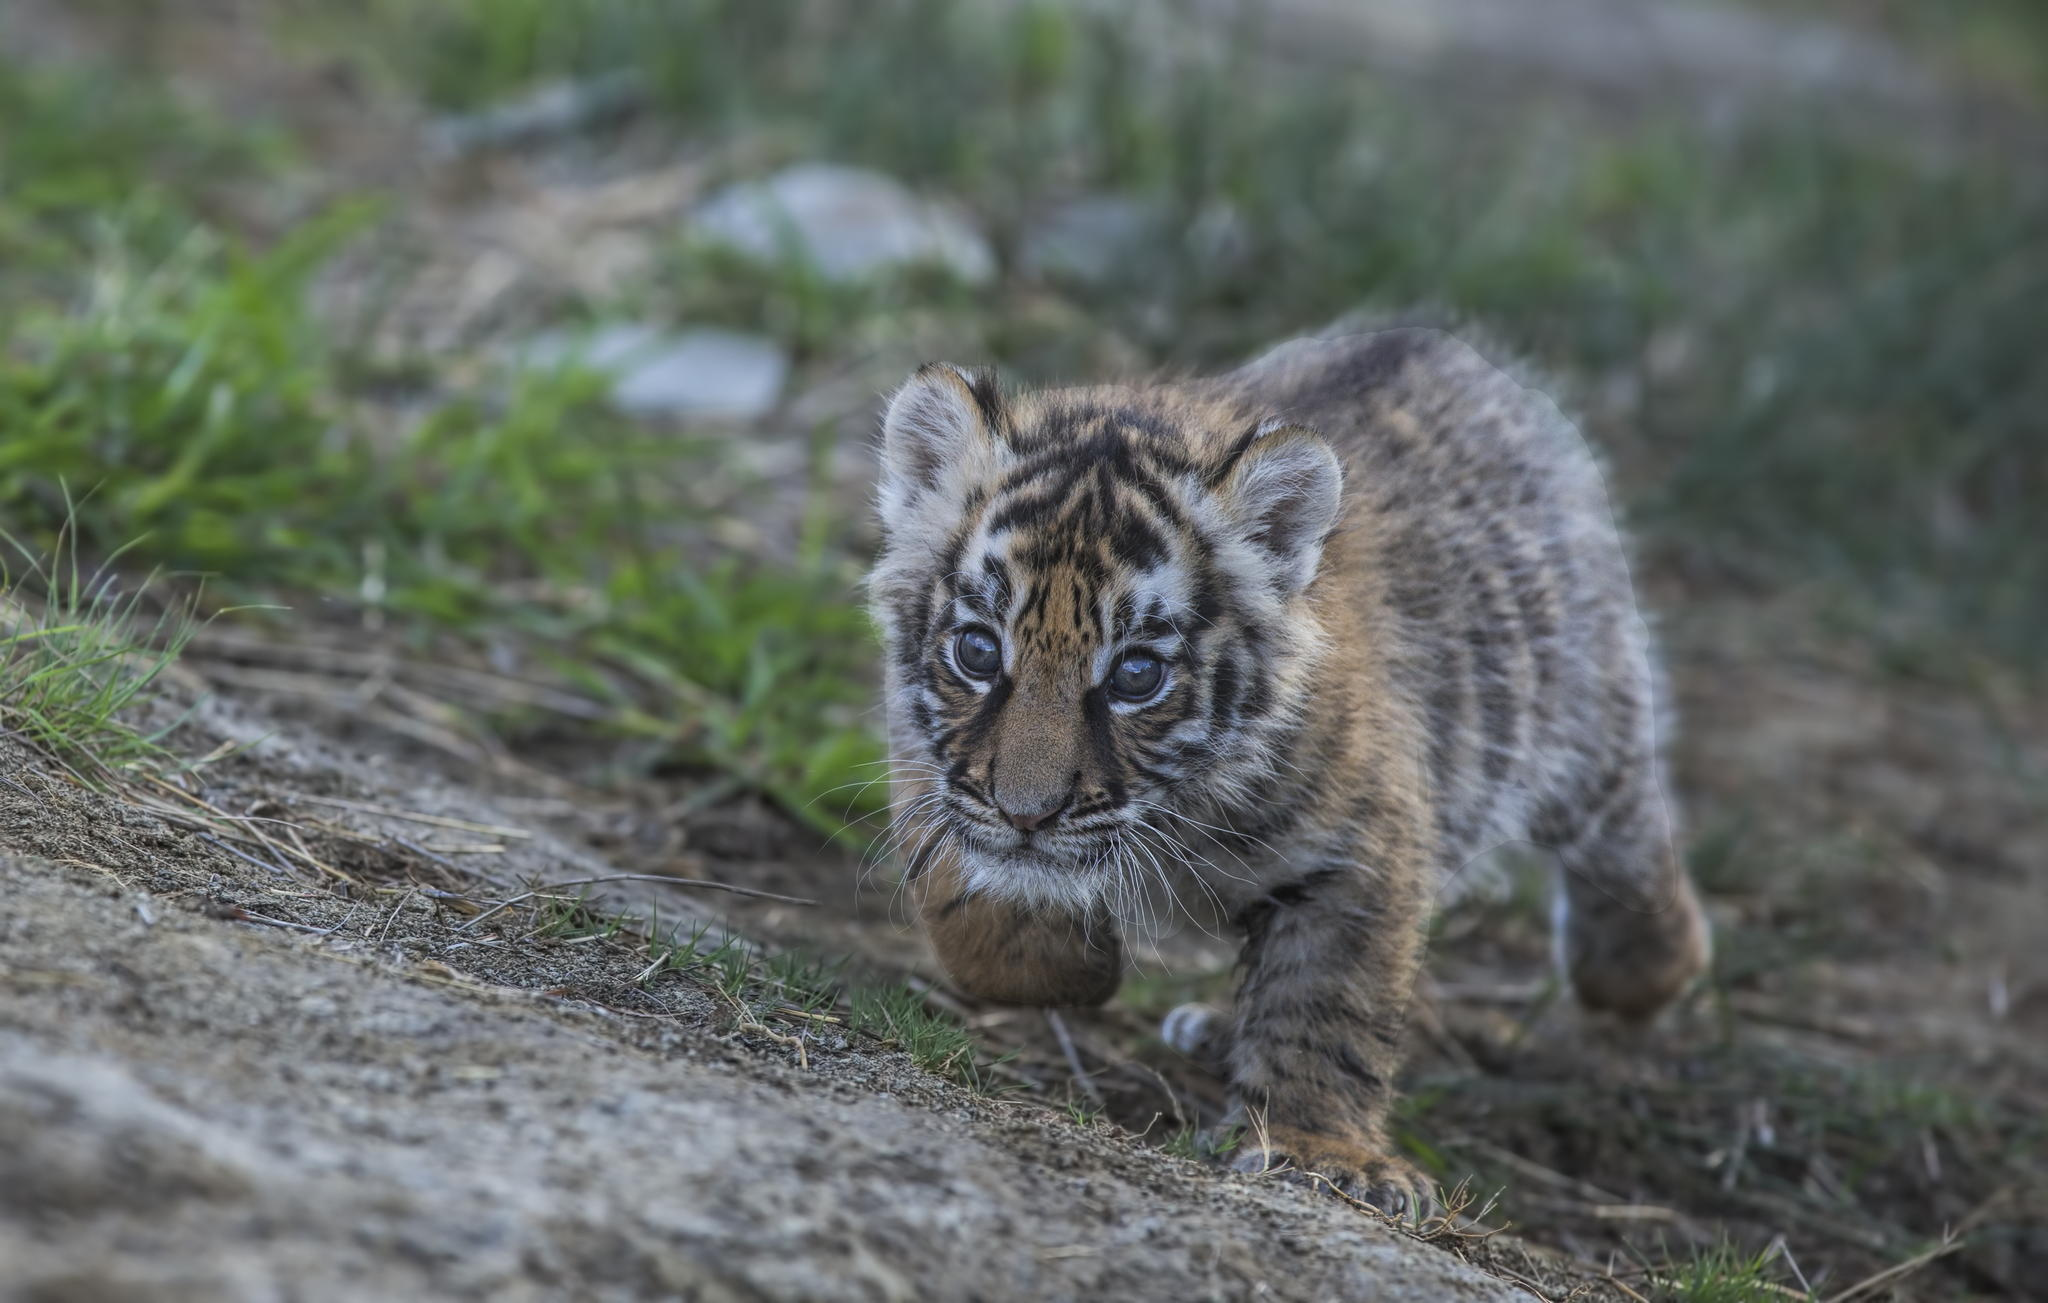tiger: (817, 293, 1727, 1134)
